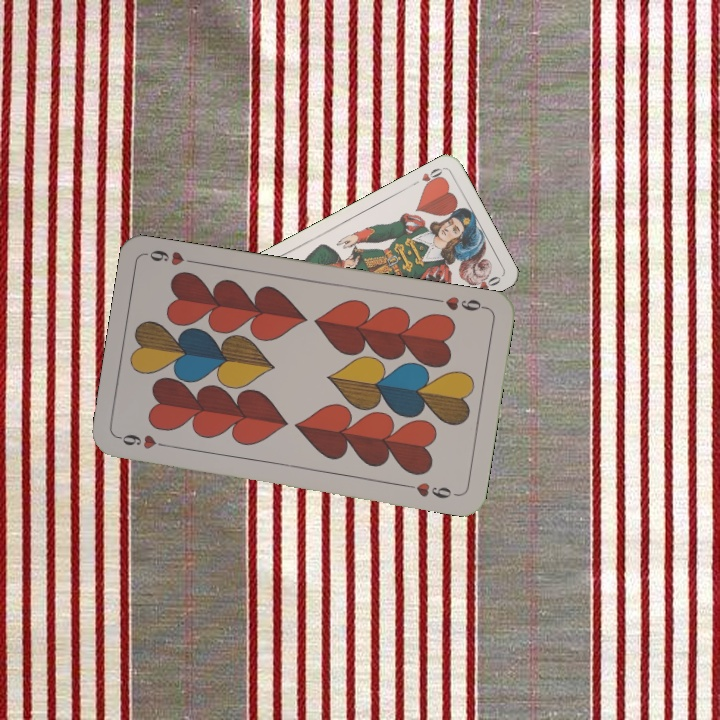H9: (431, 292, 490, 314), (115, 430, 174, 452)
HO: (408, 164, 446, 190)
